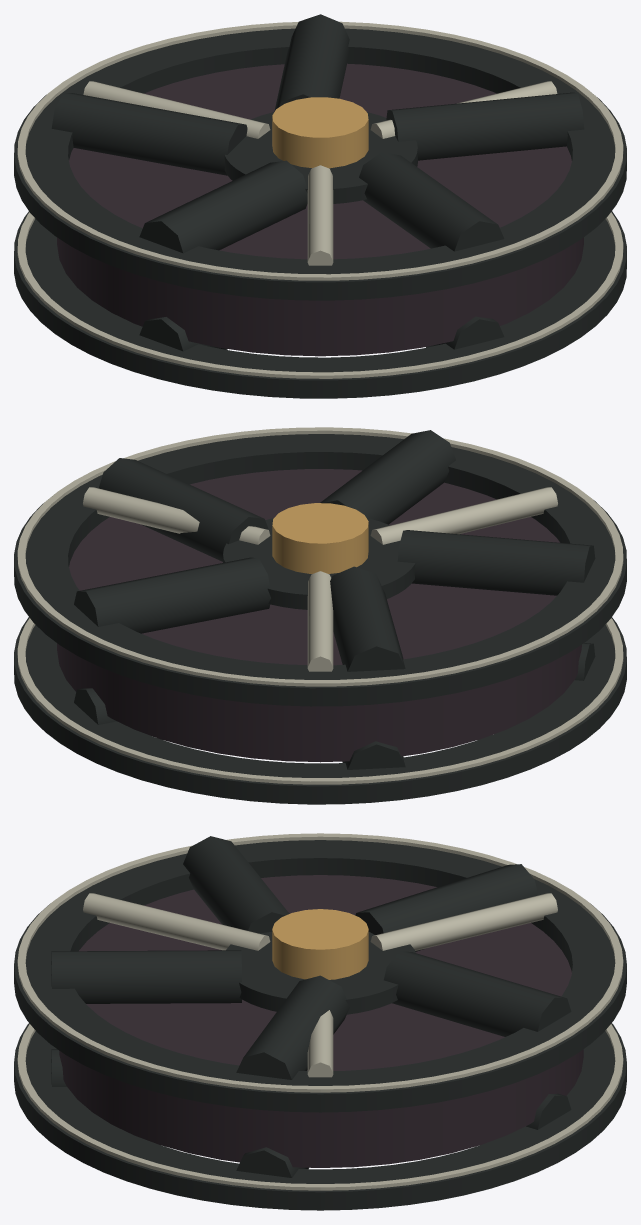
File: Atelier.glb
The picture shows the model from 3 angles, top to bottom: view 1: azimuth 30°, elevation 25°; view 2: azimuth 150°, elevation 25°; view 3: azimuth 270°, elevation 25°; orthographic projection.
Visible parts, largest first — view 1: Stamped outer rim (×2), Wound silk, Pressed web (×7), Pressed lip (×2), Spindle, Raised spoke (×3), Spool hub; view 2: Stamped outer rim (×2), Wound silk, Pressed web (×7), Pressed lip (×2), Raised spoke (×3), Spindle, Spool hub; view 3: Stamped outer rim (×2), Wound silk, Pressed web (×7), Pressed lip (×2), Raised spoke (×3), Spindle, Spool hub.
Part boxes in pixels (x1,y1,x2,y2): Stamped outer rim (×2): [14, 28, 626, 398]; Wound silk: [57, 63, 583, 356]; Pressed web (×7): [51, 14, 584, 351]; Pressed lip (×2): [17, 21, 623, 378]; Spindle: [272, 97, 368, 168]; Raised spoke (×3): [83, 81, 557, 265]; Spool hub: [224, 112, 417, 203]; Stamped outer rim (×2): [14, 434, 626, 804]; Wound silk: [57, 469, 581, 762]; Pressed web (×7): [74, 430, 595, 769]; Pressed lip (×2): [17, 427, 623, 784]; Raised spoke (×3): [83, 487, 557, 671]; Spindle: [272, 503, 368, 573]; Spool hub: [223, 518, 415, 609]; Stamped outer rim (×2): [14, 840, 626, 1210]; Wound silk: [59, 875, 583, 1167]; Pressed web (×7): [51, 836, 571, 1177]; Pressed lip (×2): [17, 833, 623, 1190]; Raised spoke (×3): [83, 893, 557, 1077]; Spindle: [272, 909, 368, 979]; Spool hub: [226, 931, 415, 1014].
Bounding box in the file's own units: 0.85 × 0.253 × 0.85.
